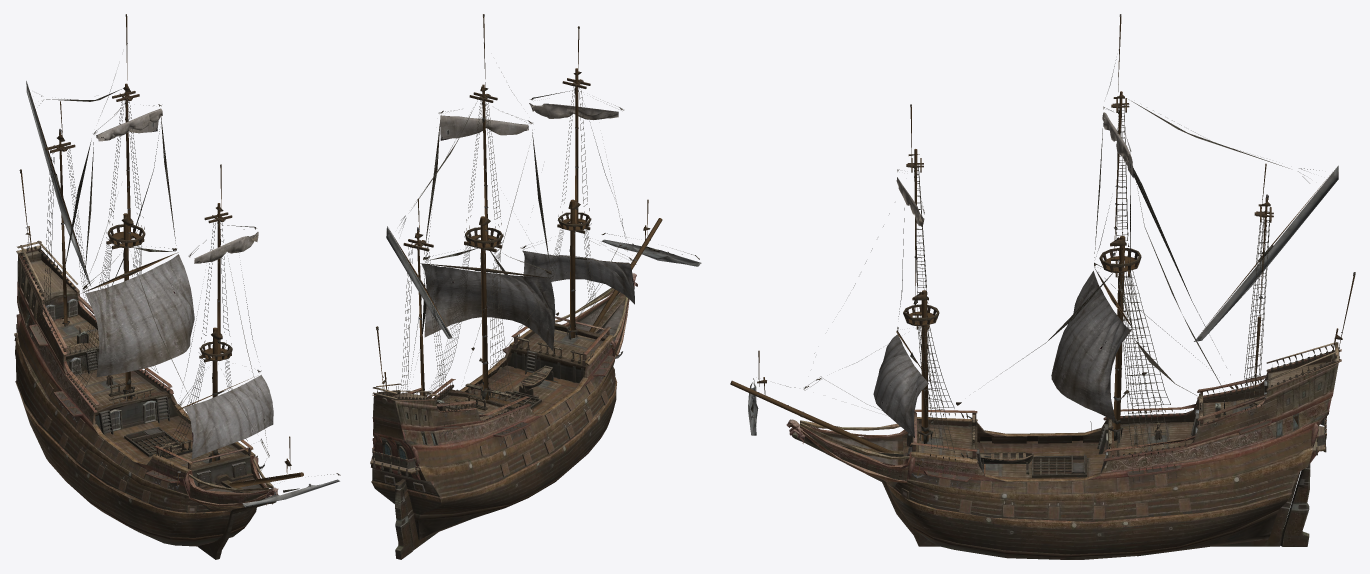
Rendered from dutch_ship_large_02.glb.
The picture shows the model from 3 angles, left to right: view 1: azimuth 30°, elevation 25°; view 2: azimuth 150°, elevation 25°; view 3: azimuth 270°, elevation 25°; orthographic projection. The views are drawn at different scales.
Visible parts, largest first — view 1: dutch_ship_large_02_hull, dutch_ship_large_02_sails, dutch_ship_large_02_rigging; view 2: dutch_ship_large_02_hull, dutch_ship_large_02_rigging, dutch_ship_large_02_sails; view 3: dutch_ship_large_02_hull, dutch_ship_large_02_rigging, dutch_ship_large_02_sails.
Boxes of the visible parts, x1,y1,x2,y2 form: dutch_ship_large_02_hull: (14, 240, 278, 559); dutch_ship_large_02_sails: (85, 108, 273, 458); dutch_ship_large_02_rigging: (19, 14, 340, 507); dutch_ship_large_02_hull: (370, 273, 637, 559); dutch_ship_large_02_rigging: (376, 14, 701, 446); dutch_ship_large_02_sails: (421, 103, 634, 351); dutch_ship_large_02_hull: (786, 342, 1341, 559); dutch_ship_large_02_rigging: (730, 14, 1355, 486); dutch_ship_large_02_sails: (873, 112, 1133, 437).
Size of the model in its own units: 8.54 by 32.05 by 34.21.
3 materials, 3 textured.
